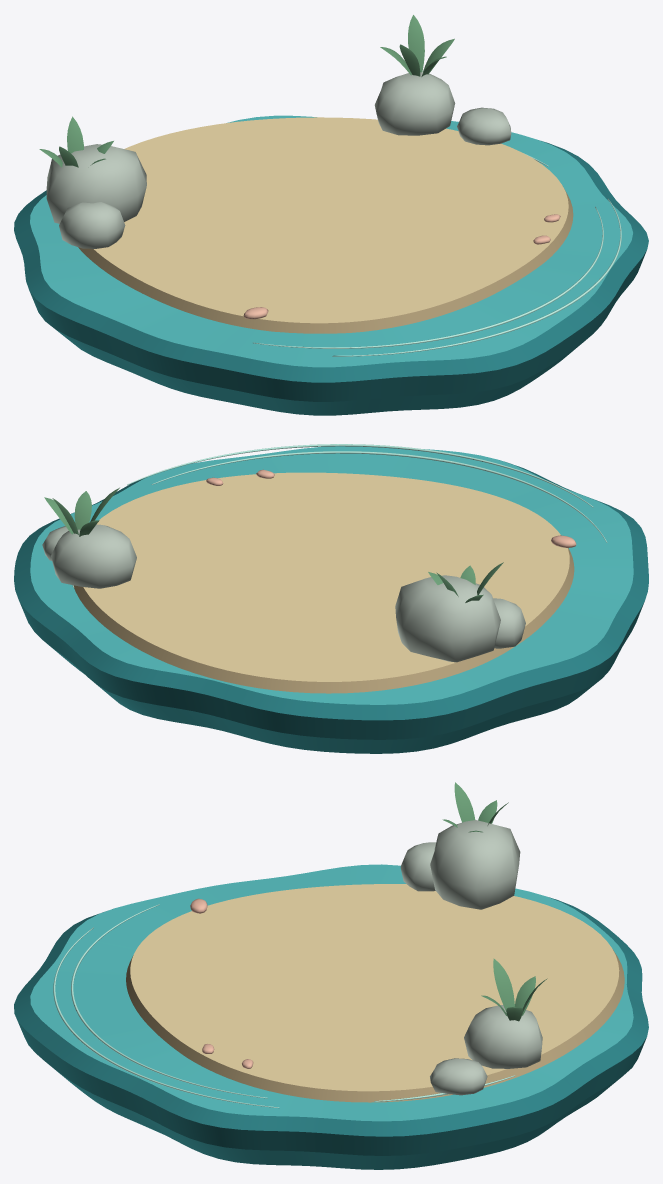
The model's file is lagoon.glb.
3 views of the same model, one above another, from view 1: azimuth 30°, elevation 25°; view 2: azimuth 150°, elevation 25°; view 3: azimuth 270°, elevation 25° (orthographic).
Parts seen in each view (by area): view 1: Habitat_lagoon_lagoon_sand.001, Habitat_lagoon_lagoon_surface.001, Habitat_lagoon_lagoon_deep_turquoise.001, Habitat_lagoon_lagoon_pearl_rock.001, Habitat_lagoon_lagoon_sand_edge.001, Habitat_lagoon_lagoon_beach_leaves.001, Habitat_lagoon_lagoon_wavelet.001; view 2: Habitat_lagoon_lagoon_sand.001, Habitat_lagoon_lagoon_deep_turquoise.001, Habitat_lagoon_lagoon_surface.001, Habitat_lagoon_lagoon_pearl_rock.001, Habitat_lagoon_lagoon_sand_edge.001, Habitat_lagoon_lagoon_wavelet.001, Habitat_lagoon_lagoon_beach_leaves.001, Habitat_lagoon_lagoon_shell.001; view 3: Habitat_lagoon_lagoon_sand.001, Habitat_lagoon_lagoon_surface.001, Habitat_lagoon_lagoon_deep_turquoise.001, Habitat_lagoon_lagoon_pearl_rock.001, Habitat_lagoon_lagoon_sand_edge.001, Habitat_lagoon_lagoon_beach_leaves.001, Habitat_lagoon_lagoon_wavelet.001.
Part boxes in pixels (x1=…): Habitat_lagoon_lagoon_sand.001: x1=94, y1=117, x2=568, y2=323; Habitat_lagoon_lagoon_surface.001: x1=30, y1=115, x2=632, y2=367; Habitat_lagoon_lagoon_deep_turquoise.001: x1=14, y1=141, x2=648, y2=415; Habitat_lagoon_lagoon_pearl_rock.001: x1=46, y1=72, x2=511, y2=248; Habitat_lagoon_lagoon_sand_edge.001: x1=78, y1=189, x2=573, y2=333; Habitat_lagoon_lagoon_beach_leaves.001: x1=39, y1=15, x2=454, y2=167; Habitat_lagoon_lagoon_wavelet.001: x1=253, y1=153, x2=621, y2=356; Habitat_lagoon_lagoon_sand.001: x1=83, y1=472, x2=569, y2=681; Habitat_lagoon_lagoon_deep_turquoise.001: x1=14, y1=461, x2=648, y2=753; Habitat_lagoon_lagoon_surface.001: x1=30, y1=446, x2=633, y2=704; Habitat_lagoon_lagoon_pearl_rock.001: x1=42, y1=524, x2=525, y2=662; Habitat_lagoon_lagoon_sand_edge.001: x1=73, y1=548, x2=574, y2=693; Habitat_lagoon_lagoon_wavelet.001: x1=72, y1=444, x2=607, y2=587; Habitat_lagoon_lagoon_beach_leaves.001: x1=44, y1=487, x2=503, y2=602; Habitat_lagoon_lagoon_shell.001: x1=206, y1=469, x2=576, y2=547; Habitat_lagoon_lagoon_sand.001: x1=130, y1=884, x2=619, y2=1091; Habitat_lagoon_lagoon_surface.001: x1=30, y1=864, x2=633, y2=1121; Habitat_lagoon_lagoon_deep_turquoise.001: x1=14, y1=897, x2=648, y2=1169; Habitat_lagoon_lagoon_pearl_rock.001: x1=400, y1=820, x2=542, y2=1095; Habitat_lagoon_lagoon_sand_edge.001: x1=126, y1=950, x2=624, y2=1102; Habitat_lagoon_lagoon_beach_leaves.001: x1=442, y1=782, x2=547, y2=1021; Habitat_lagoon_lagoon_wavelet.001: x1=53, y1=904, x2=515, y2=1108.
Size of the model in its own units: 6.45 by 1.84 by 6.4.
